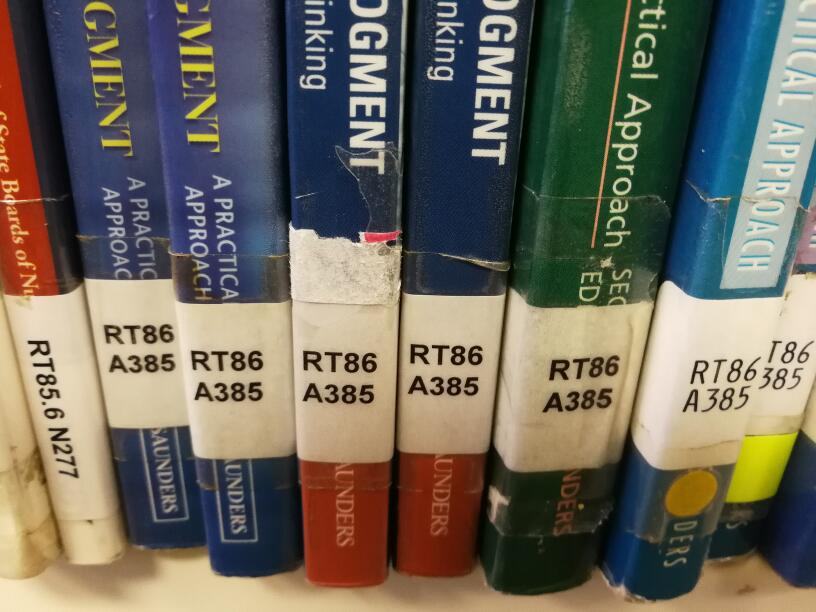booklabel: (24, 335, 80, 480), (538, 353, 621, 415), (679, 355, 762, 414), (299, 347, 378, 404), (405, 342, 485, 398), (187, 347, 265, 403), (101, 321, 175, 376)
